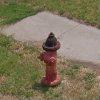Hydrant: (24, 26, 65, 87)
